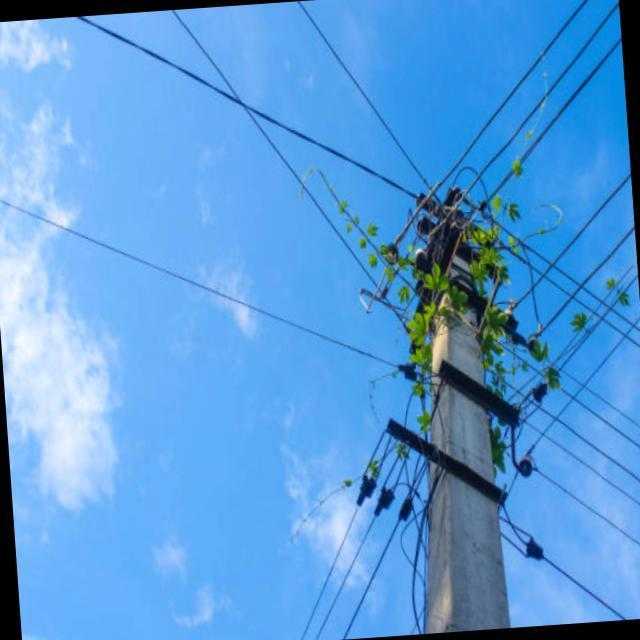light_pole: (382, 212, 522, 404)
